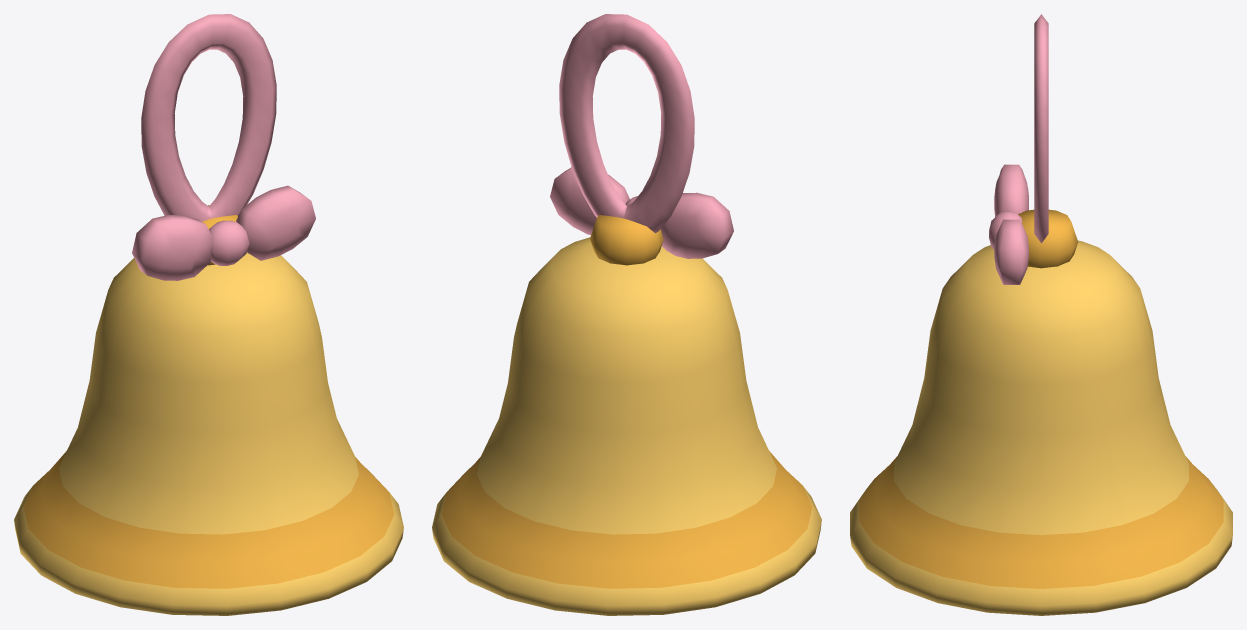
File: bell.glb
The picture shows the model from 3 angles, left to right: view 1: azimuth 30°, elevation 25°; view 2: azimuth 150°, elevation 25°; view 3: azimuth 270°, elevation 25°; orthographic projection.
Visible parts, largest first — view 1: bell_body, bell_ribbon; view 2: bell_body, bell_ribbon; view 3: bell_body, bell_ribbon.
Part boxes in pixels (bbox=[...]): bell_body: bbox=[14, 205, 403, 615]; bell_ribbon: bbox=[132, 14, 315, 280]; bell_body: bbox=[432, 215, 821, 615]; bell_ribbon: bbox=[550, 14, 733, 258]; bell_body: bbox=[850, 209, 1232, 615]; bell_ribbon: bbox=[989, 14, 1048, 284].
Bounding box in the file's own units: 0.1104 × 0.1785 × 0.1093.
